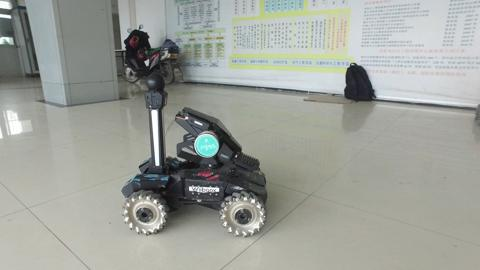bag: (341, 61, 379, 105)
chariot: (119, 70, 266, 240)
